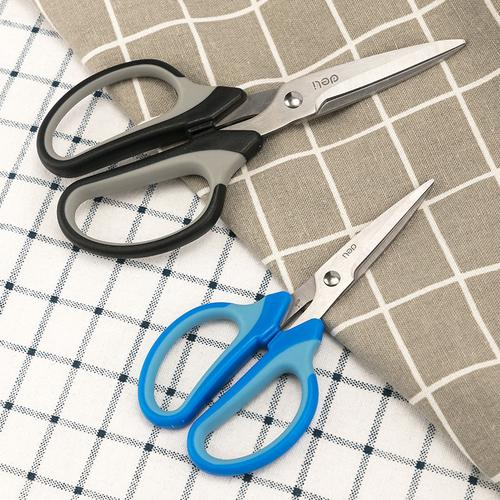scissor: (36, 37, 466, 258), (138, 182, 438, 473)
